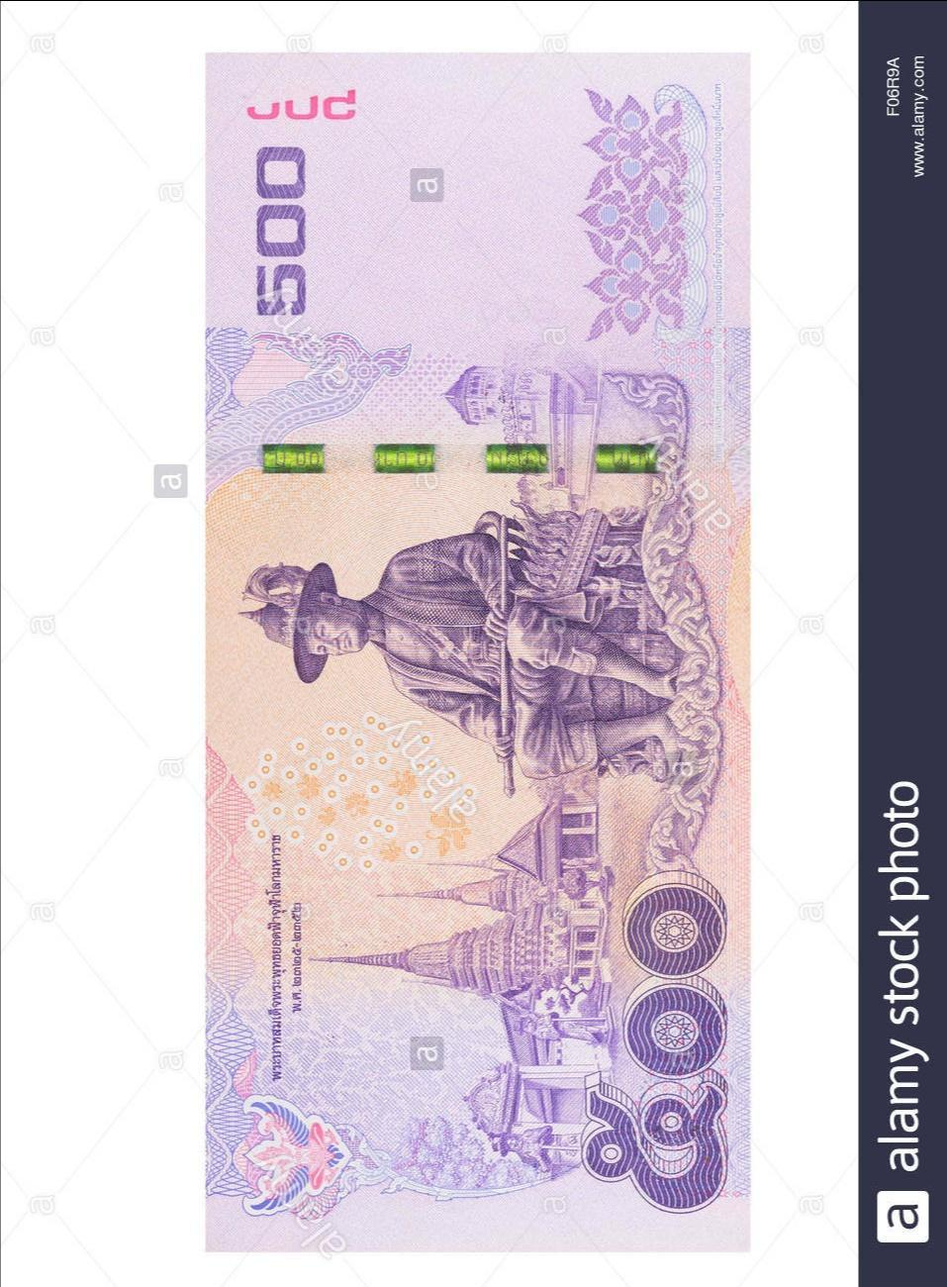500BahtTai: (196, 46, 746, 1260)
